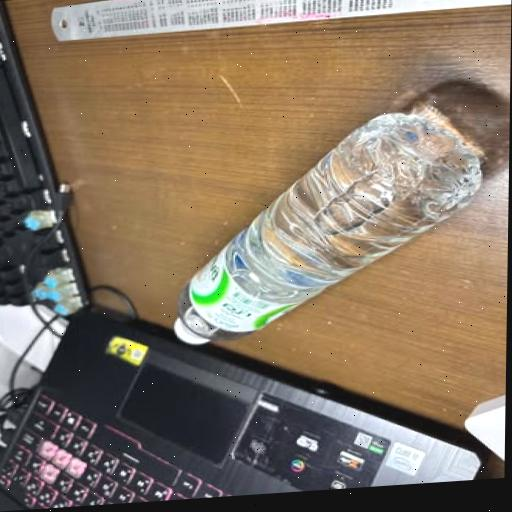bottle: (130, 71, 510, 364)
